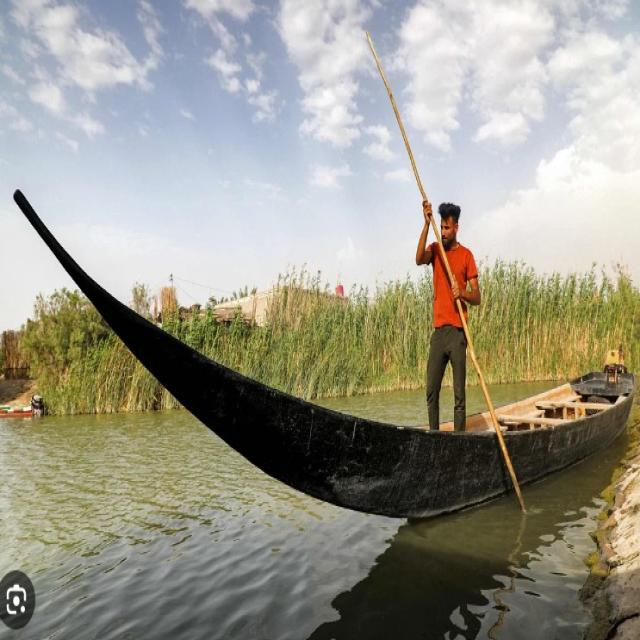boat: (6, 156, 639, 544)
